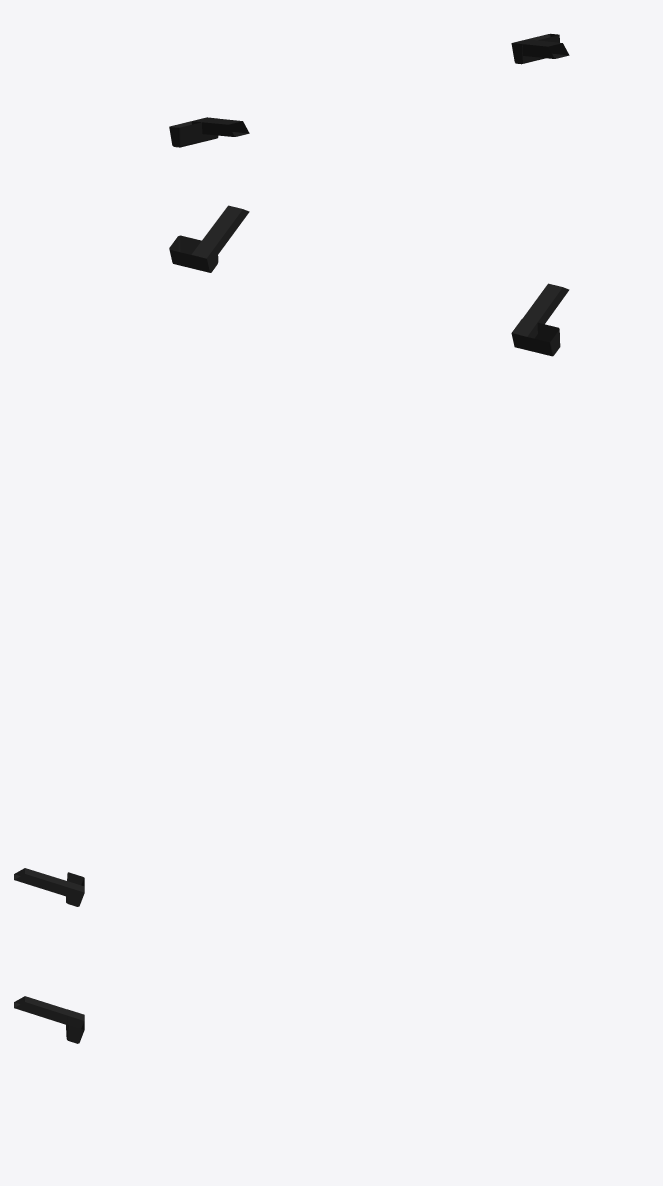
The model's file is amg3__M_Engine_Max_Engine_0.glb.
3 views of the same model, one above another, from view 1: azimuth 30°, elevation 25°; view 2: azimuth 150°, elevation 25°; view 3: azimuth 270°, elevation 25° (orthographic). The views are drawn at different scales.
Parts seen in each view (by area): view 1: amg3__M_Engine_Max_Engine_0; view 2: amg3__M_Engine_Max_Engine_0; view 3: amg3__M_Engine_Max_Engine_0.
Boxes of the visible parts, bbox=[...] form: amg3__M_Engine_Max_Engine_0: bbox=[169, 33, 569, 147]; amg3__M_Engine_Max_Engine_0: bbox=[169, 205, 569, 356]; amg3__M_Engine_Max_Engine_0: bbox=[14, 868, 84, 1043].
Size of the model in its own units: 1.12 by 0.5769 by 1.4.
Materials: 1 (1 with a texture image).
